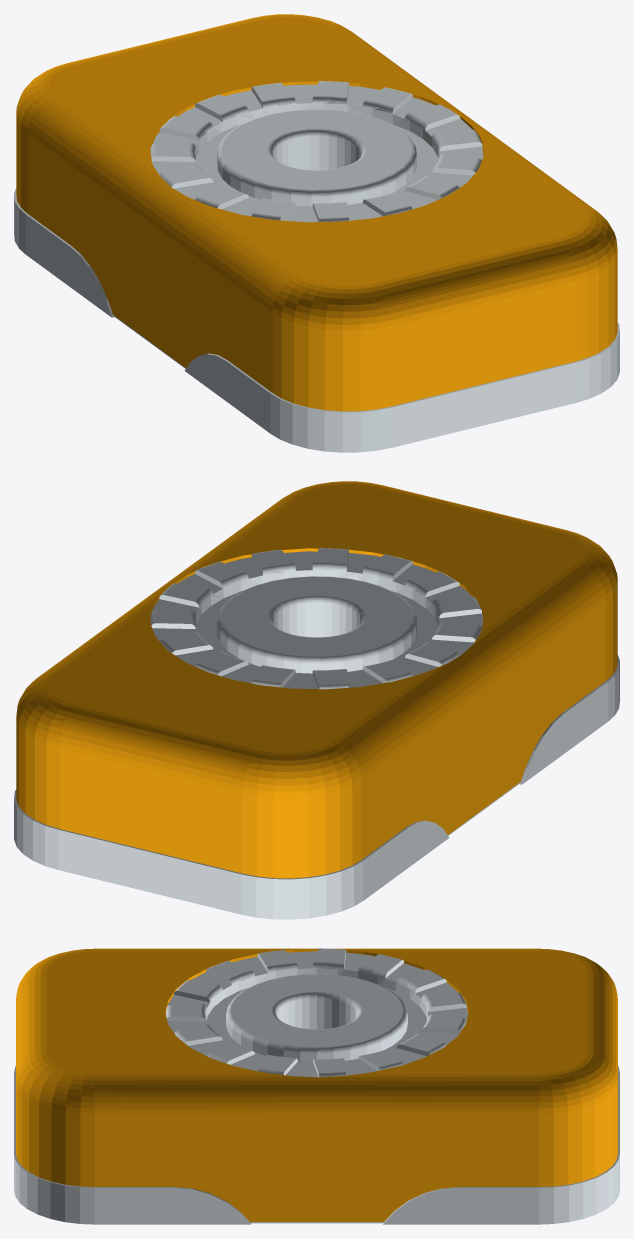
File: dg-vh-Agv1.glb
3 views of the same model, one above another, from view 1: azimuth 30°, elevation 25°; view 2: azimuth 150°, elevation 25°; view 3: azimuth 270°, elevation 25° (orthographic). The views are drawn at different scales.
Visible parts, largest first — view 1: SketchUp; view 2: SketchUp; view 3: SketchUp.
Part boxes in pixels (x1=…): SketchUp: x1=14, y1=14, x2=619, y2=452; SketchUp: x1=14, y1=481, x2=619, y2=919; SketchUp: x1=14, y1=948, x2=619, y2=1224.
Bounding box in the file's own units: 54.25 × 23.56 × 93.
